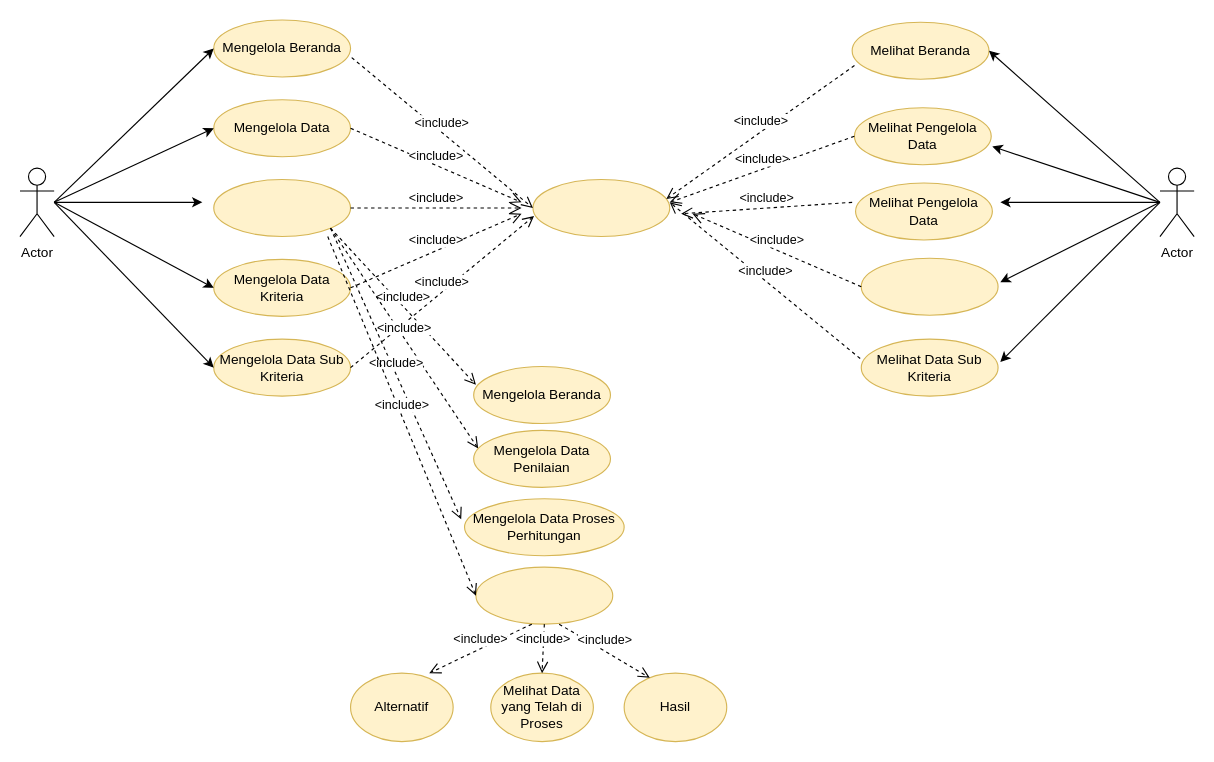
This 1214x762 diagram has some shape labels left out. Each missing label, with the centre of its shape:
"Login" goes at (601,207).
"Melihat Laporan" goes at (544,595).
"Melihat Pengelola Data Kriteria" goes at (929,286).
"Mengelola Data Periode" goes at (282,207).
